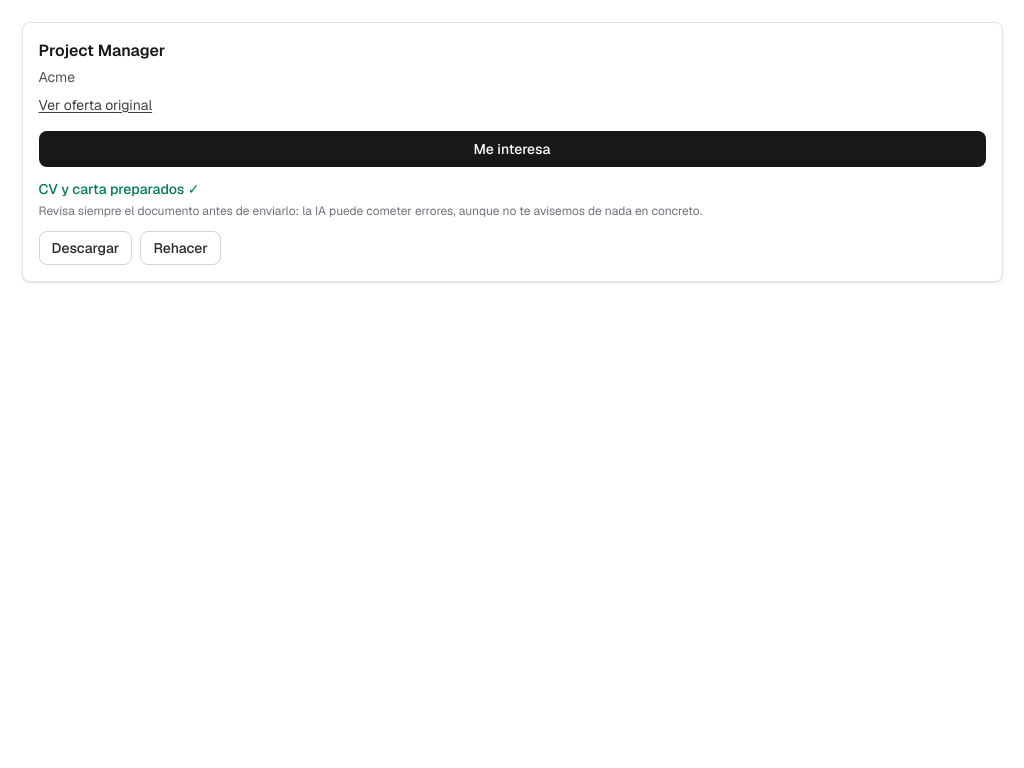
Test case: TarjetaOferta — T93: botón "Rehacer" › el botón de confirmar dentro del modal está deshabilitado sin texto escrito
The image size is (1024, 768).
Click the button "Rehacer" at (181,248), box left=140, top=230, right=221, bottom=264
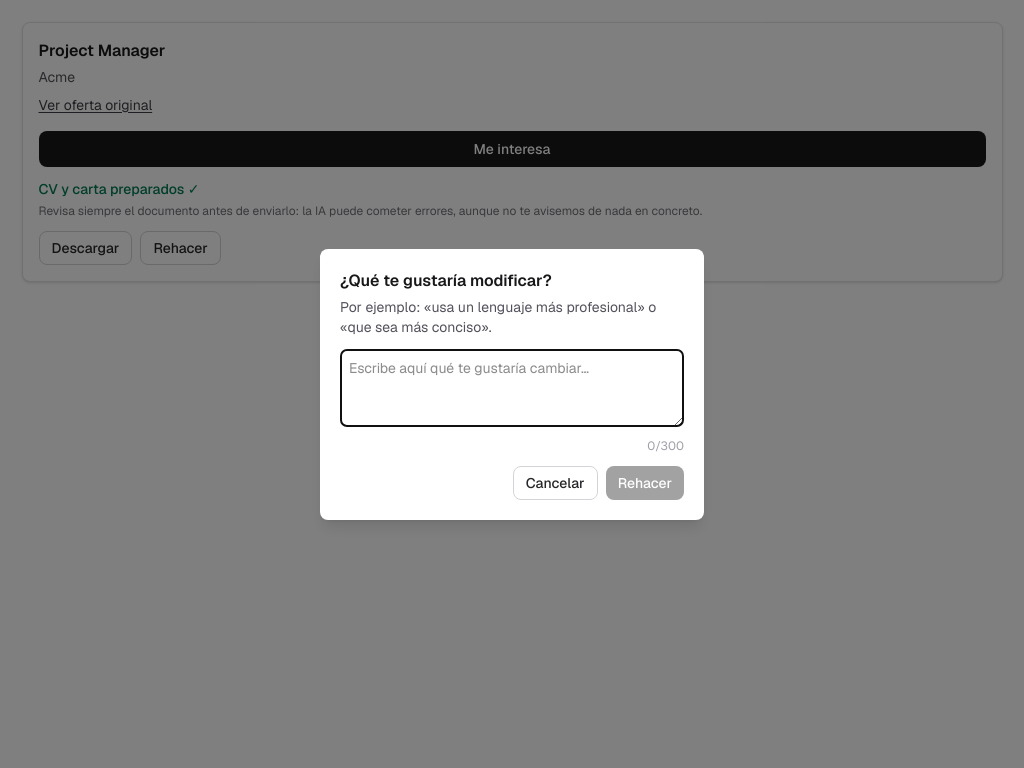
Expected: the button "Rehacer" is disabled, left=606, top=466, right=684, bottom=500
